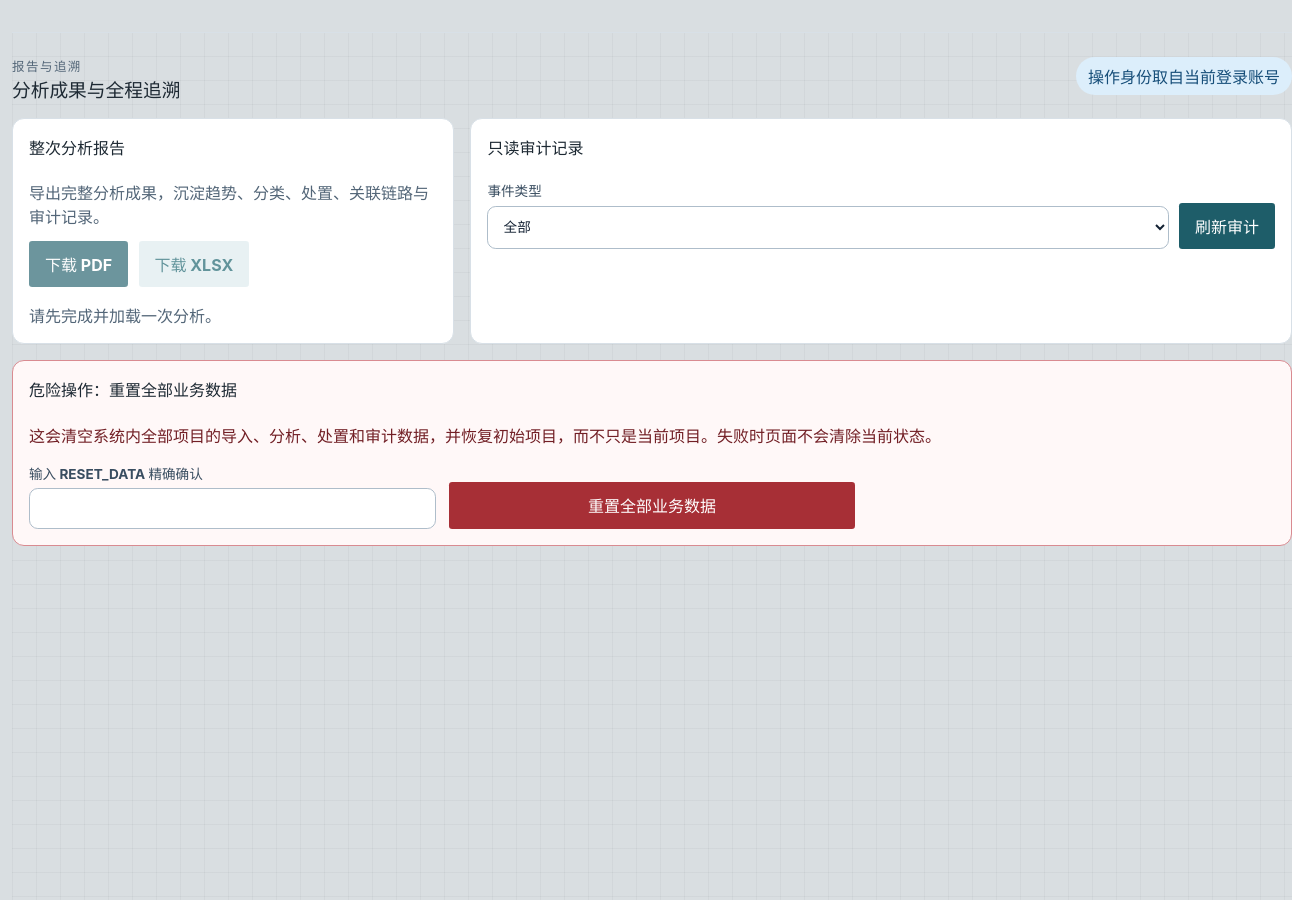
Scenario: M5 报告、审计与演示复位 › 显示真实登录身份说明并在复位确认值不精确时不发送请求
Expected: the text "操作身份取自当前登录账号" is shown, [1076,57,1291,95]
In the field with test id "reset-confirmation": (232, 508) [29,488,436,529], type "reset_data"
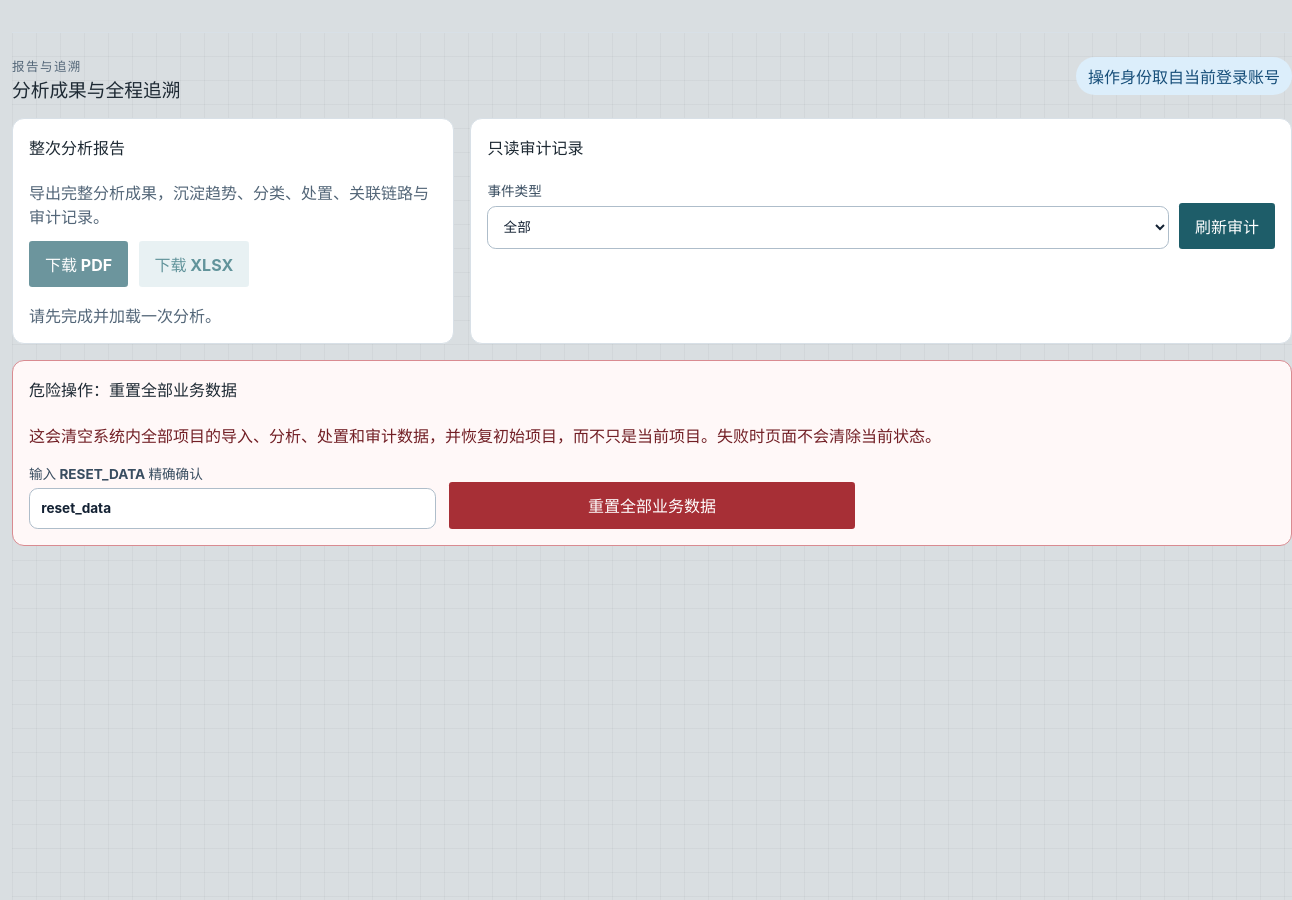
Click the button with test id "reset-button": (652, 506) [449,482,855,529]
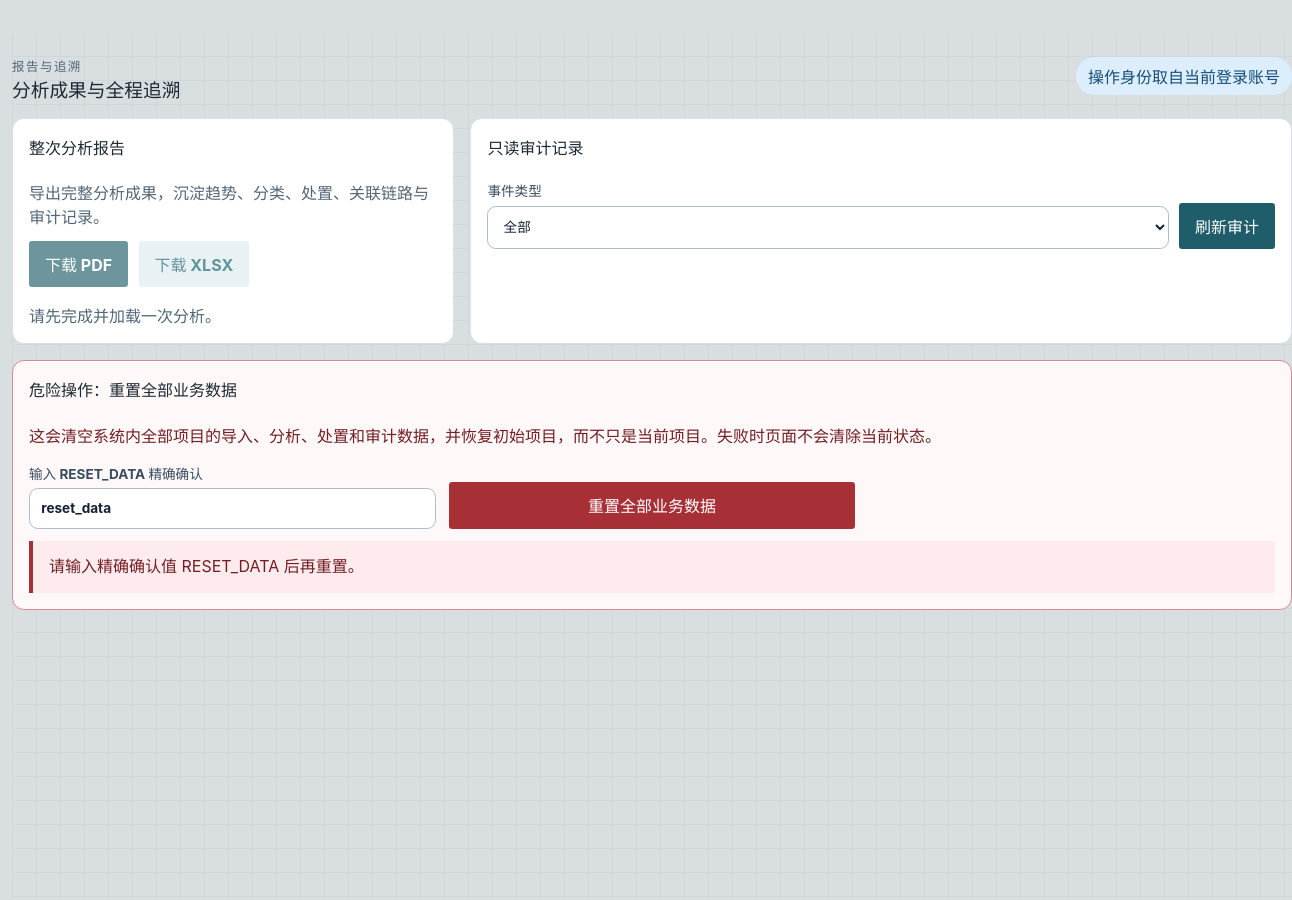
Expected: the message with test id "reset-message" shows "精确确认值 RESET_DATA", [49,556,364,576]
